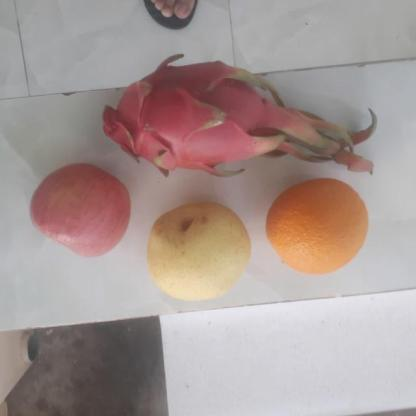apple: (27, 164, 130, 257)
orange: (263, 180, 371, 277)
pear: (141, 200, 255, 301)
pitaya: (91, 70, 291, 176)
